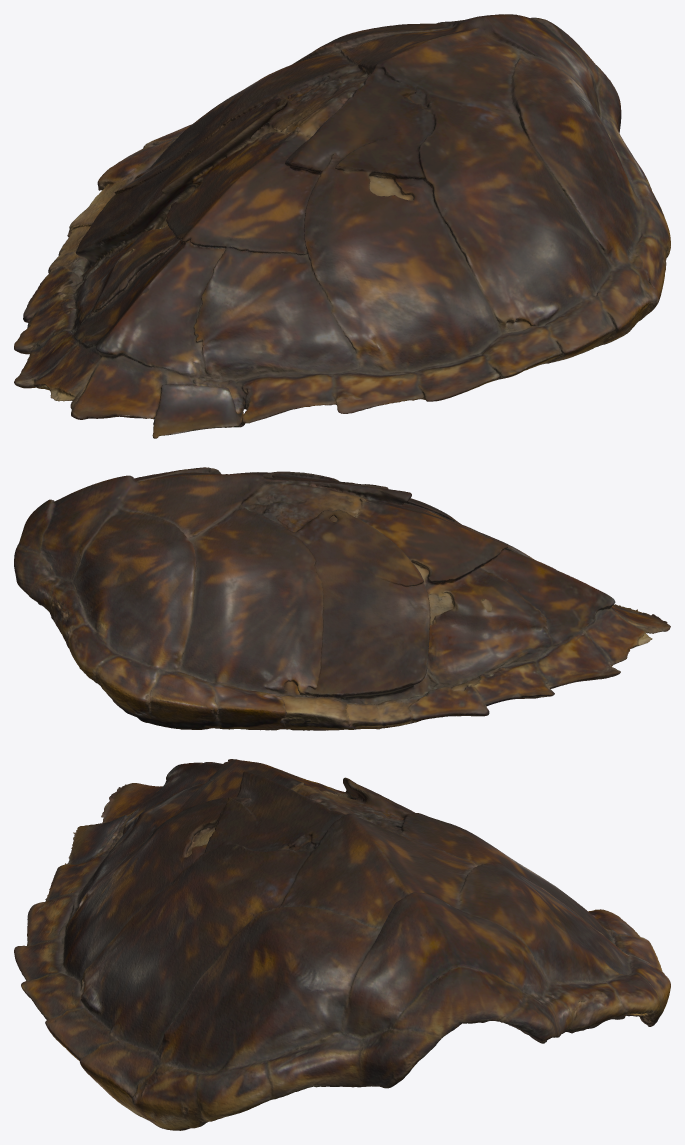
Rendered from hawksbill-shell-real-scan.glb.
The picture shows the model from 3 angles, top to bottom: view 1: azimuth 30°, elevation 25°; view 2: azimuth 150°, elevation 25°; view 3: azimuth 270°, elevation 25°; orthographic projection. The views are drawn at different scales.
Visible parts, largest first — view 1: Object_2; view 2: Object_2; view 3: Object_2.
Boxes of the visible parts, left/top/right/bottom form: Object_2: left=14, top=14, right=670, bottom=438; Object_2: left=14, top=467, right=670, bottom=730; Object_2: left=14, top=759, right=670, bottom=1130.
Bounding box in the file's own units: 194 × 62.49 × 160.
1 material, 1 textured.
